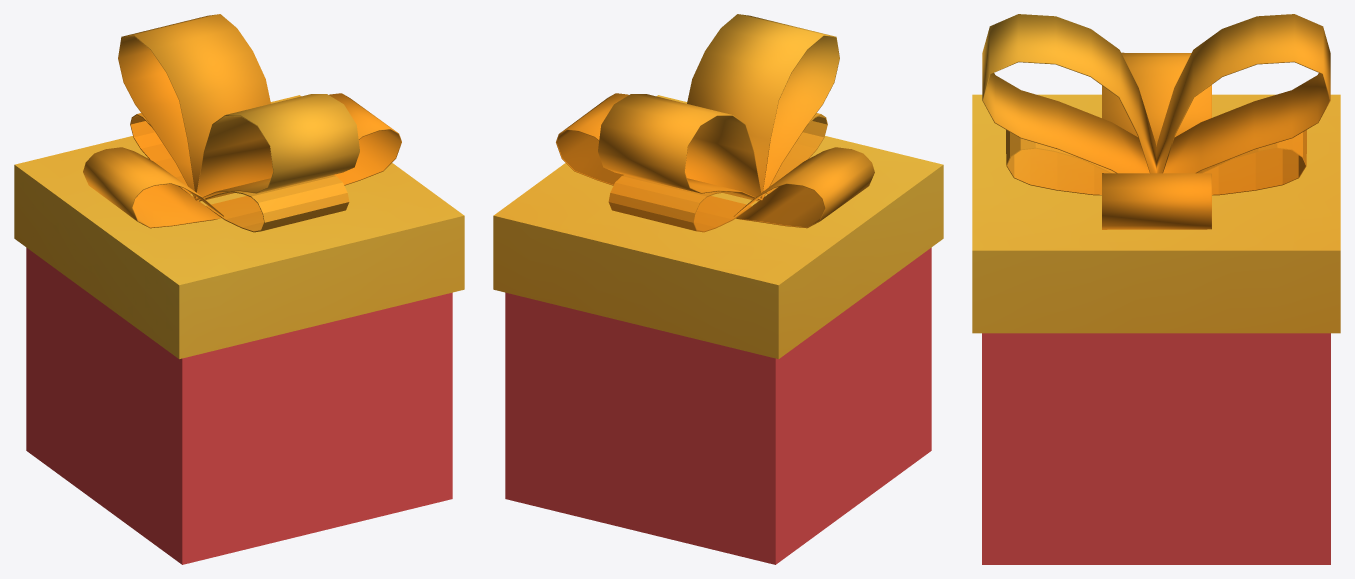
Rendered from Gift_04 (1).fbx.
The picture shows the model from 3 angles, left to right: view 1: azimuth 30°, elevation 25°; view 2: azimuth 150°, elevation 25°; view 3: azimuth 270°, elevation 25°; orthographic projection. The views are drawn at different scales.
Parts seen in each view (by area): view 1: pasted__Cube1, pasted__Cube.003, pasted__BezierCurve1, pasted__BezierCurve.005, pasted__BezierCurve.003; view 2: pasted__Cube1, pasted__Cube.003, pasted__BezierCurve1, pasted__BezierCurve.005, pasted__BezierCurve.003; view 3: pasted__Cube1, pasted__Cube.003, pasted__BezierCurve1, pasted__BezierCurve.005, pasted__BezierCurve.003.
Boxes of the visible parts, <box> form: pasted__Cube1: <box>26,247,452,564</box>; pasted__Cube.003: <box>14,95,464,359</box>; pasted__BezierCurve1: <box>118,14,359,200</box>; pasted__BezierCurve.005: <box>83,93,401,228</box>; pasted__BezierCurve.003: <box>130,113,349,232</box>; pasted__Cube1: <box>505,247,931,564</box>; pasted__Cube.003: <box>493,95,943,359</box>; pasted__BezierCurve1: <box>598,14,839,200</box>; pasted__BezierCurve.005: <box>556,93,874,228</box>; pasted__BezierCurve.003: <box>608,113,827,232</box>; pasted__Cube1: <box>982,333,1330,564</box>; pasted__Cube.003: <box>972,94,1340,333</box>; pasted__BezierCurve1: <box>982,14,1330,173</box>; pasted__BezierCurve.005: <box>1102,52,1211,229</box>; pasted__BezierCurve.003: <box>1006,130,1306,195</box>.
Bounding box in the file's own units: 39.04 × 52.98 × 39.04.
1 material, 1 textured.
